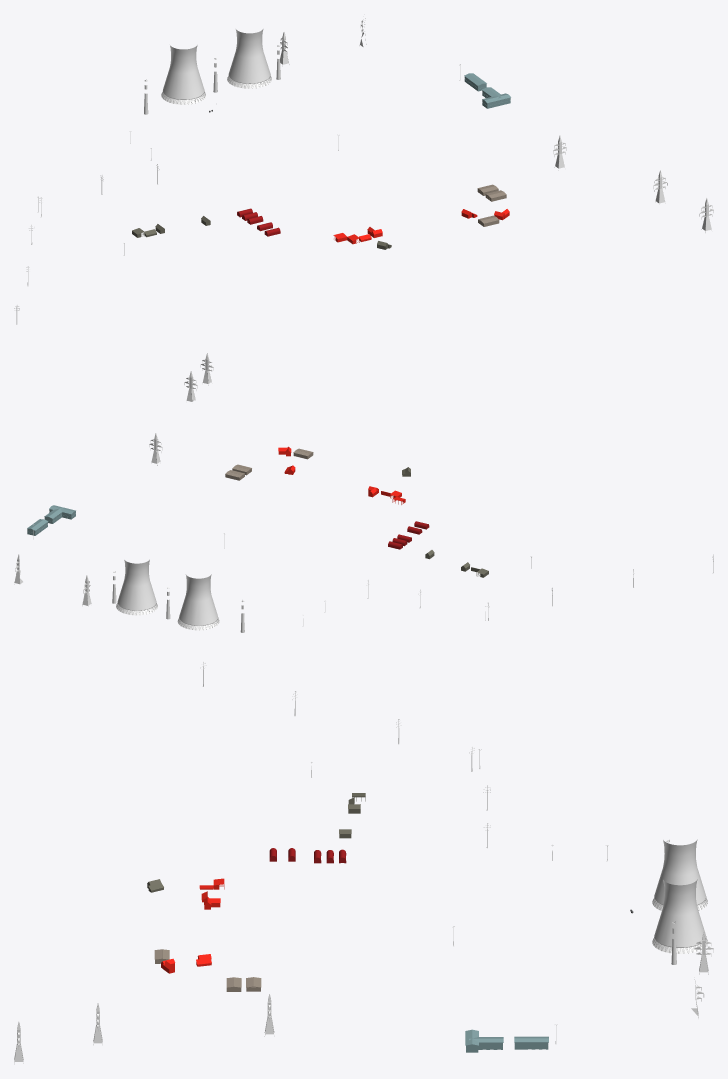
The picture shows the model from 3 angles, top to bottom: view 1: azimuth 30°, elevation 25°; view 2: azimuth 150°, elevation 25°; view 3: azimuth 270°, elevation 25°; orthographic projection. The views are drawn at different scales.
Parts seen in each view (by area): view 1: node000_world_lr0_agg2_13_hr_concrete_wall_001b_fragment1, node000_world_lr0_agg9_20_nuke_skybox_buildings_color_fragme (×3), node000_prop3_lr0_agg19_13_nuke_skybox_powerline_color_fragm; view 2: node000_world_lr0_agg2_13_hr_concrete_wall_001b_fragment1, node000_world_lr0_agg9_20_nuke_skybox_buildings_color_fragme (×3), node000_prop3_lr0_agg19_13_nuke_skybox_powerline_color_fragm; view 3: node000_world_lr0_agg2_13_hr_concrete_wall_001b_fragment1, node000_world_lr0_agg9_20_nuke_skybox_buildings_color_fragme (×3), node000_prop3_lr0_agg19_13_nuke_skybox_powerline_color_fragm.
Part boxes in pixels (x1,y1,x2,y2): node000_world_lr0_agg2_13_hr_concrete_wall_001b_fragment1: (144, 29, 280, 114); node000_world_lr0_agg9_20_nuke_skybox_buildings_color_fragme (×3): (333, 73, 510, 244); node000_prop3_lr0_agg19_13_nuke_skybox_powerline_color_fragm: (553, 135, 713, 232); node000_world_lr0_agg2_13_hr_concrete_wall_001b_fragment1: (112, 559, 244, 632); node000_world_lr0_agg9_20_nuke_skybox_buildings_color_fragme (×3): (27, 446, 405, 535); node000_prop3_lr0_agg19_13_nuke_skybox_powerline_color_fragm: (149, 353, 213, 465); node000_world_lr0_agg2_13_hr_concrete_wall_001b_fragment1: (652, 839, 707, 964); node000_world_lr0_agg9_20_nuke_skybox_buildings_color_fragme (×3): (154, 878, 548, 1052); node000_prop3_lr0_agg19_13_nuke_skybox_powerline_color_fragm: (14, 994, 274, 1064).
Size of the model in its own units: 2693 by 244 by 2104.
